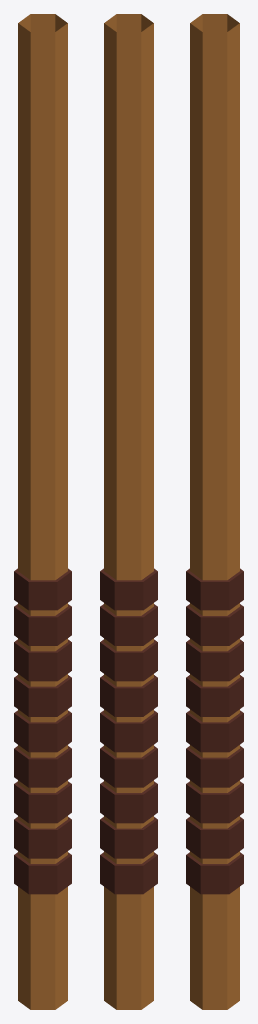
File: Axe_Double_2_Handle.glb
3 renders of one model, left to right at view 1: azimuth 30°, elevation 25°; view 2: azimuth 150°, elevation 25°; view 3: azimuth 330°, elevation 25°, orthographic.
Parts seen in each view (by area): view 1: Axe_Double_2_Handle; view 2: Axe_Double_2_Handle; view 3: Axe_Double_2_Handle.
Part boxes in pixels (box(x1,y1,x2,y2)): Axe_Double_2_Handle: box(14, 14, 71, 1009); Axe_Double_2_Handle: box(100, 14, 157, 1009); Axe_Double_2_Handle: box(186, 14, 243, 1009).
Size of the model in its own units: 0.0404 by 0.8684 by 0.0466.
